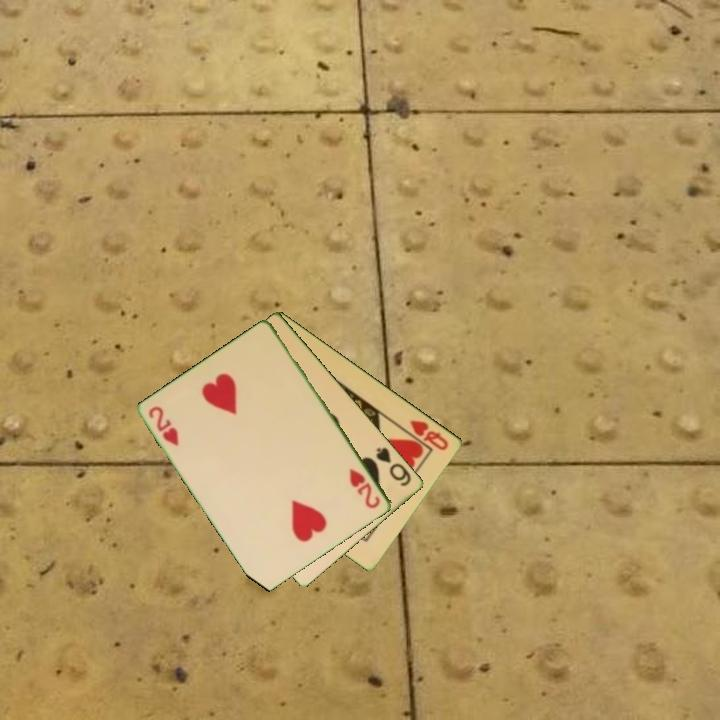2h: (346, 465, 384, 512), (145, 403, 182, 449)
6s: (373, 444, 414, 489)
Qh: (407, 416, 452, 453)
